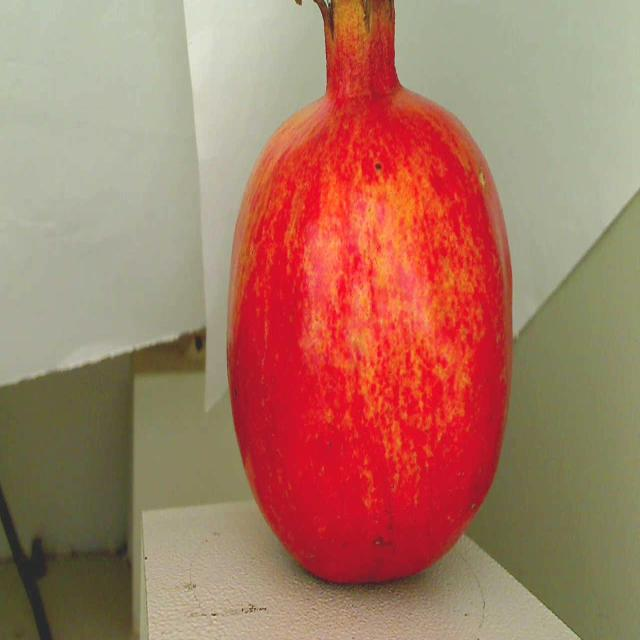pomegranate: (210, 0, 524, 610)
